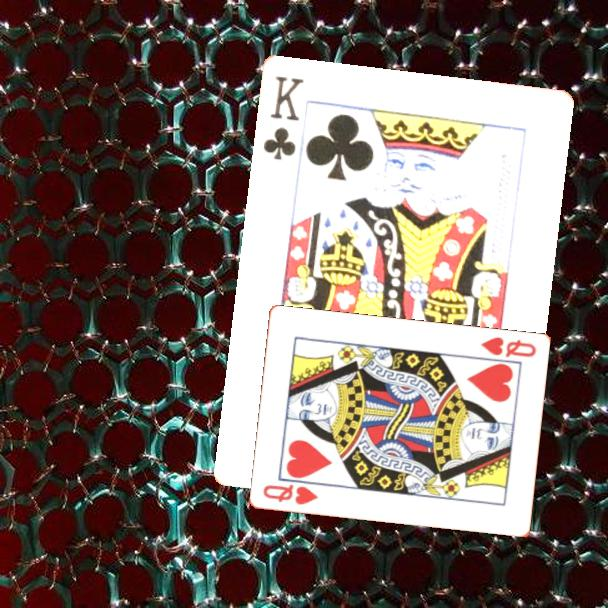c13: (259, 72, 306, 162)
h12: (259, 481, 321, 508), (477, 334, 539, 361)
